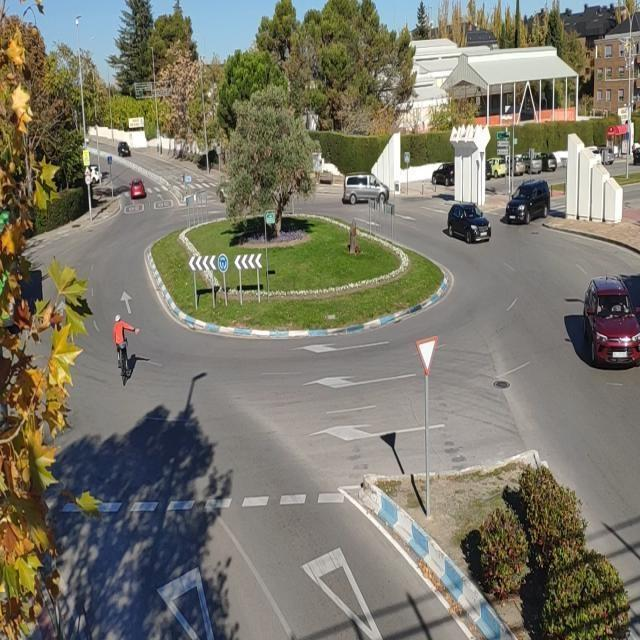Car: (584, 278, 640, 368), (506, 180, 551, 224), (447, 203, 492, 244), (129, 178, 146, 200), (118, 142, 130, 157)
Cycle: (115, 338, 129, 388)
Van: (343, 173, 390, 205)
